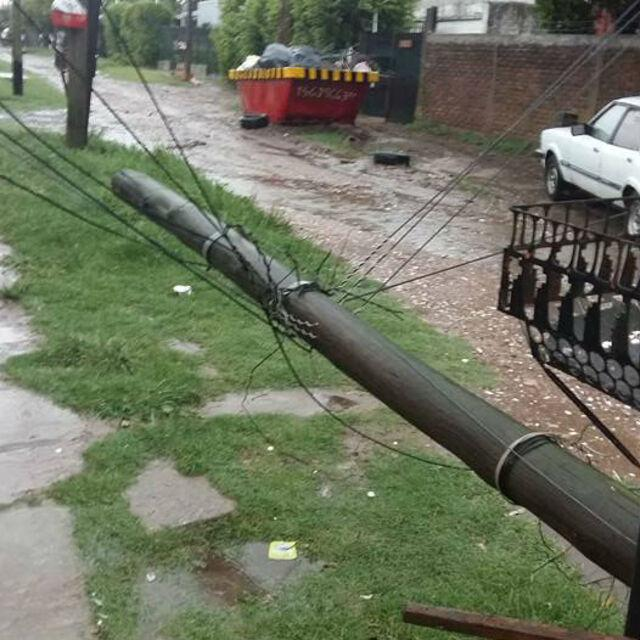Inclined Pole: (99, 160, 640, 582)
